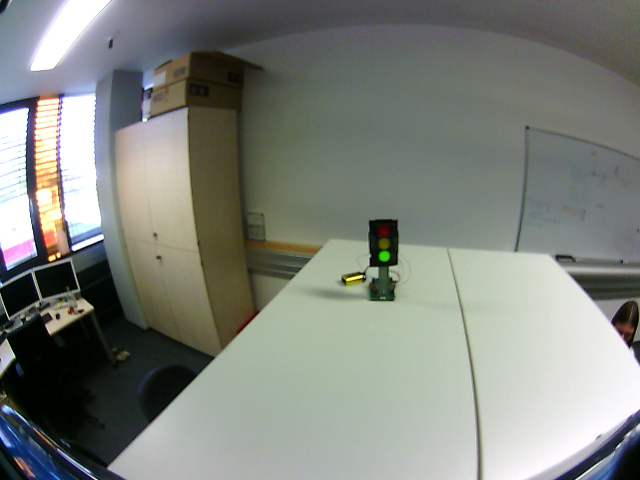green trafficlight: (372, 221, 395, 267)
